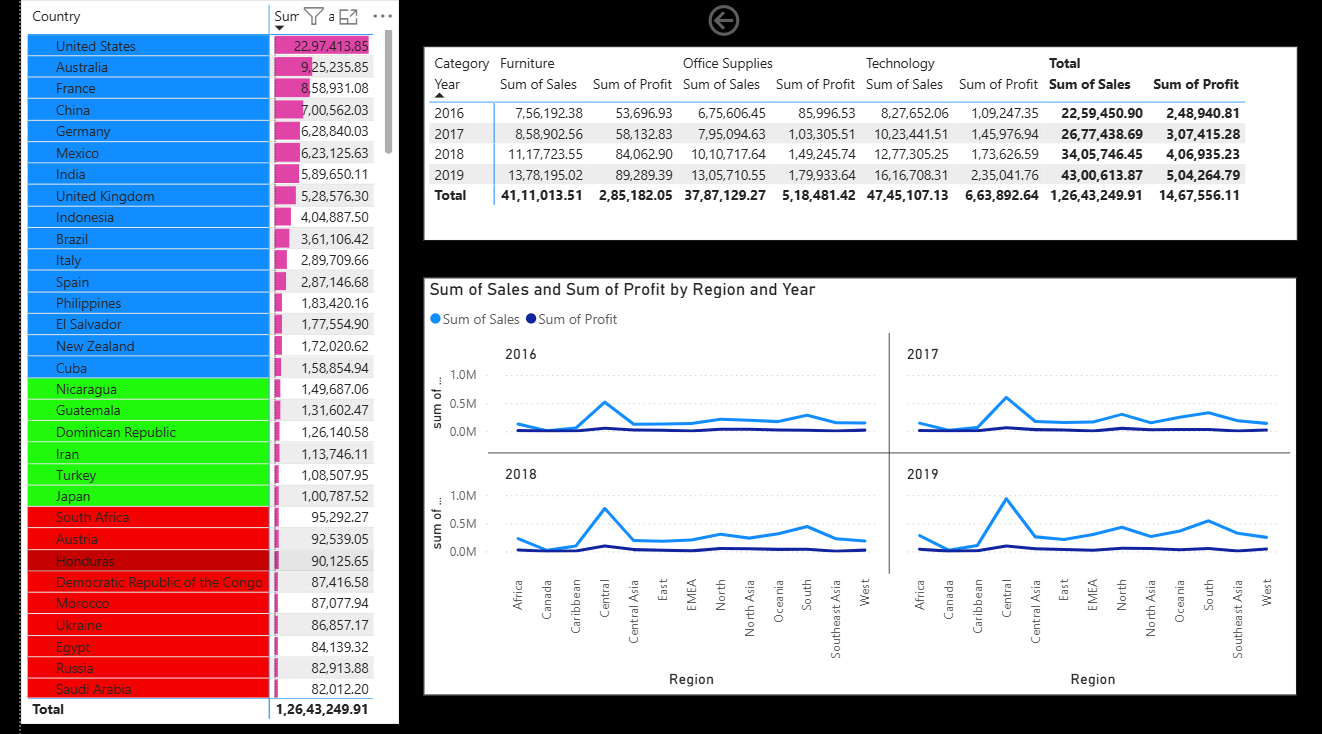

The dashboard page shown, as its layout file describes it:
{"tool":"powerbi","page":{"name":"Page 4","canvas":[1280,720],"ordinal":2},"visuals":[{"type":"tableEx","fields":{"Values":["Orders.Country","Sum(Orders.Sales)"]},"box":[0,0,369.1,708.1],"z":0},{"type":"lineChart","fields":{"Category":["Orders.Region"],"Rows":["Orders.Order Date.Variation.Date Hierarchy.Year"],"Y":["Sum(Orders.Sales)","Sum(Orders.Profit)"]},"box":[393.8,271.5,854.8,408.4],"z":1000},{"type":"pivotTable","fields":{"Columns":["Orders.Category"],"Rows":["Orders.Order Date.Variation.Date Hierarchy.Year"],"Values":["Sum(Orders.Sales)","Sum(Orders.Profit)"]},"box":[393.8,45,855,190],"z":2000},{"type":"actionButton","box":[668.3,0,100,40],"z":3000}]}

Visuals, with their boxes in screenshot pixels (x1, y1, x2, y2), scaled from the page's 1280x720 canvas onto the 1322x734 screenshot:
tableEx - Orders.Country x Sum(Orders.Sales): bbox=[0, 0, 381, 722]
lineChart - Orders.Region x Orders.Order Date.Variation.Date Hierarchy.Year: bbox=[407, 277, 1290, 693]
pivotTable - Orders.Category x Orders.Order Date.Variation.Date Hierarchy.Year: bbox=[407, 46, 1290, 240]
actionButton: bbox=[690, 0, 794, 41]
